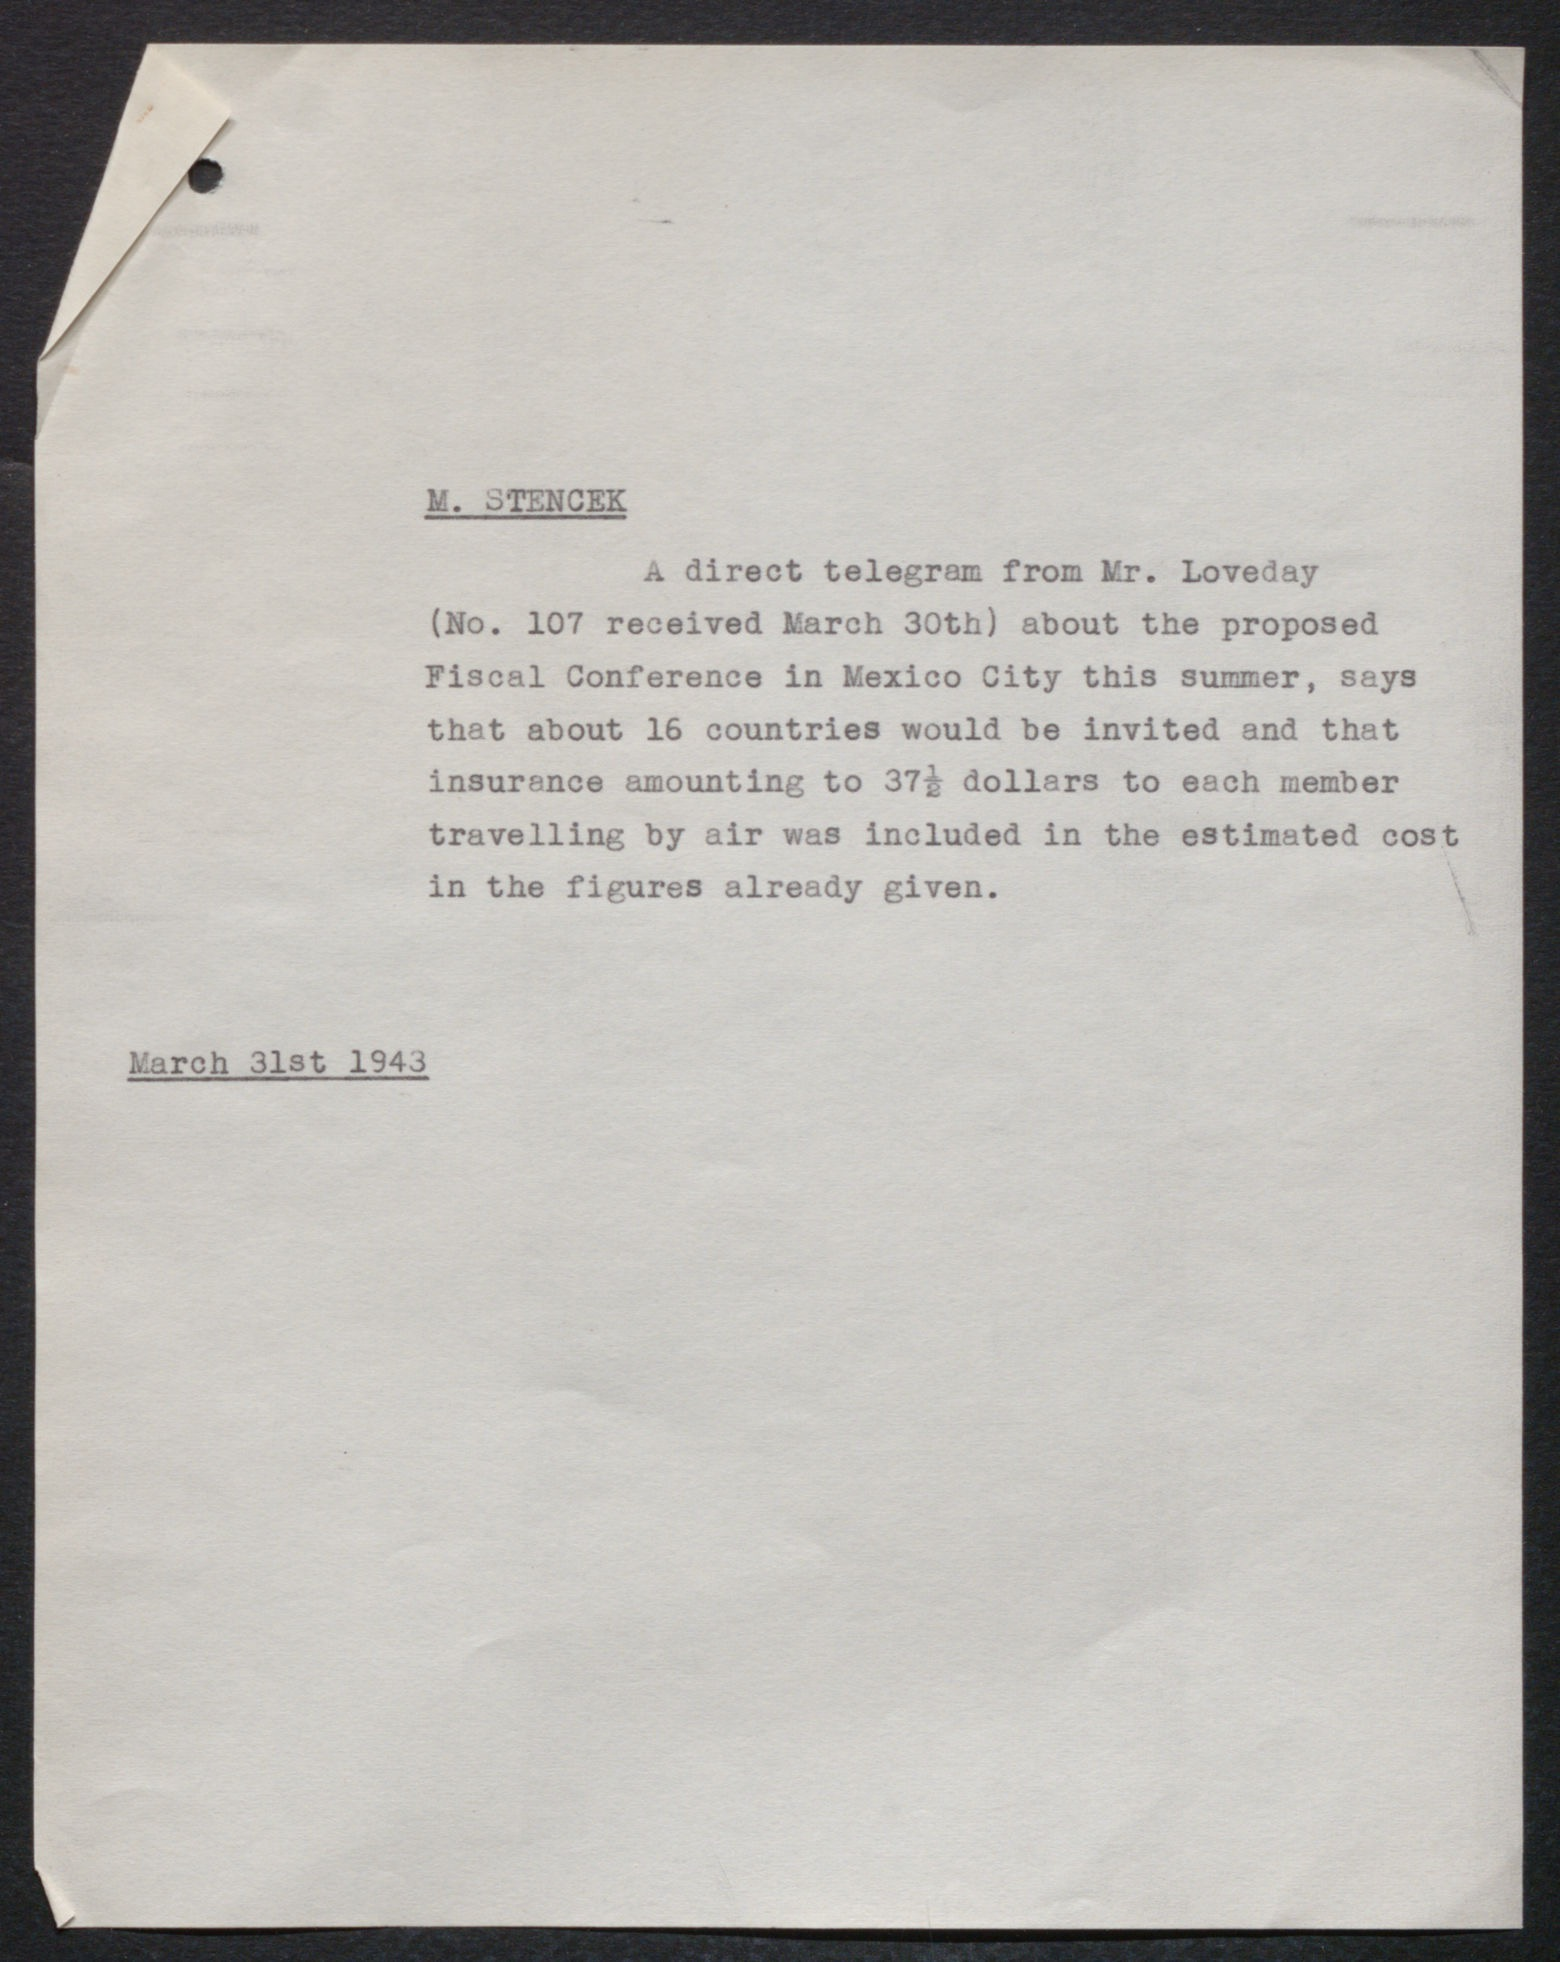MainZone-Date: (114, 1032, 446, 1097)
MainZone-Head: (411, 471, 638, 534)
MainZone-P: (403, 541, 1469, 927)
